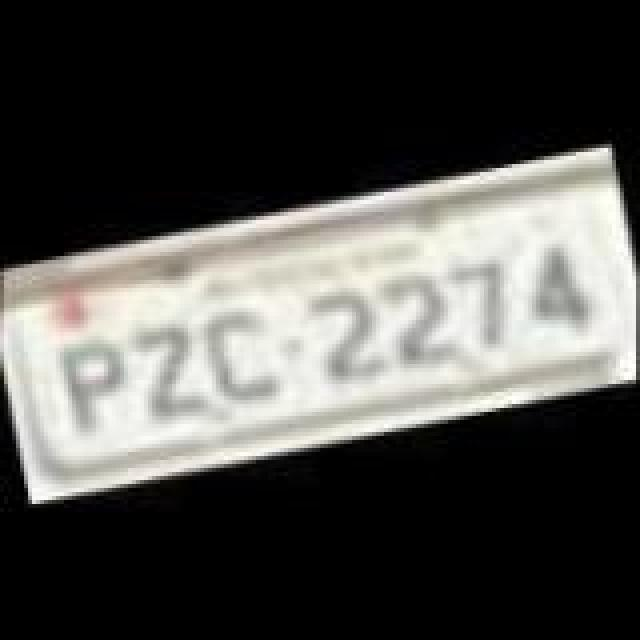2: (300, 272, 400, 392), (364, 260, 464, 376)
4: (504, 230, 600, 346)
7: (434, 238, 526, 354)
C: (192, 294, 288, 410)
P: (48, 330, 136, 438)
Z: (118, 314, 210, 426)
